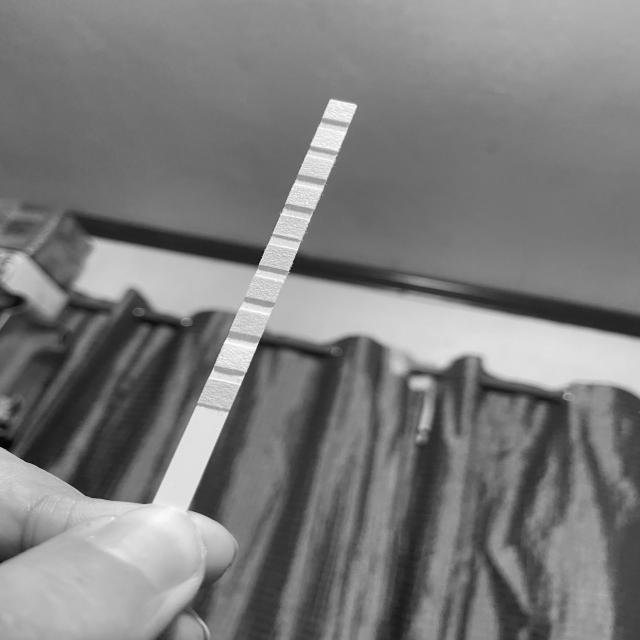Bilirubin: (221, 350, 249, 367)
Blood: (266, 248, 291, 267)
Glucose: (206, 383, 232, 404)
Ketone: (237, 314, 264, 332)
Leukocytes: (327, 105, 353, 118)
Nitrite: (316, 132, 340, 147)
Protein: (291, 188, 316, 204)
SpGravity: (251, 282, 278, 297)
Urobilinogen: (304, 159, 328, 176)
background: (0, 0, 640, 640)
pH: (279, 218, 304, 236)
strip: (159, 99, 359, 496)
